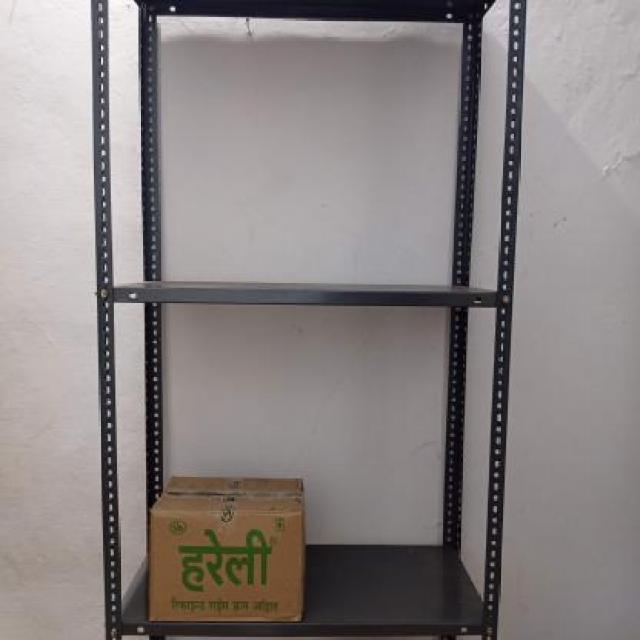box: (146, 506, 305, 624)
